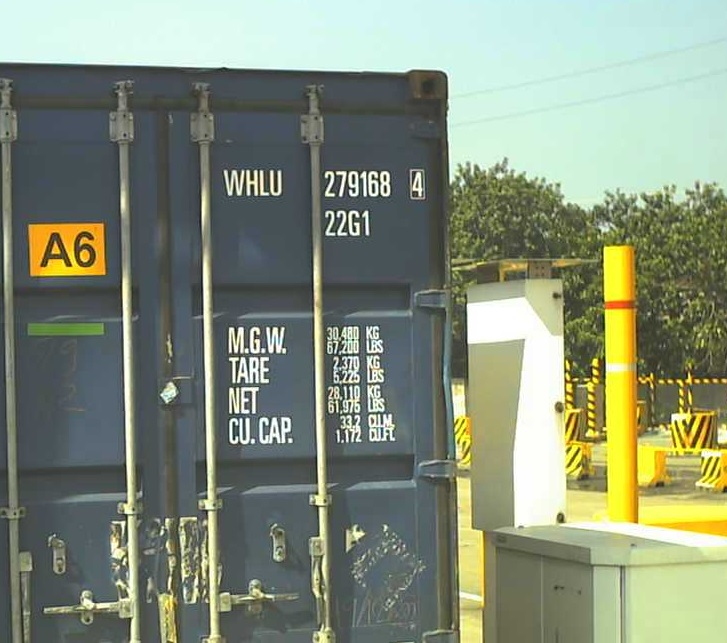container_door: (5, 58, 460, 643)
